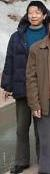boots: (10, 163, 29, 173), (1, 1, 1, 1)
